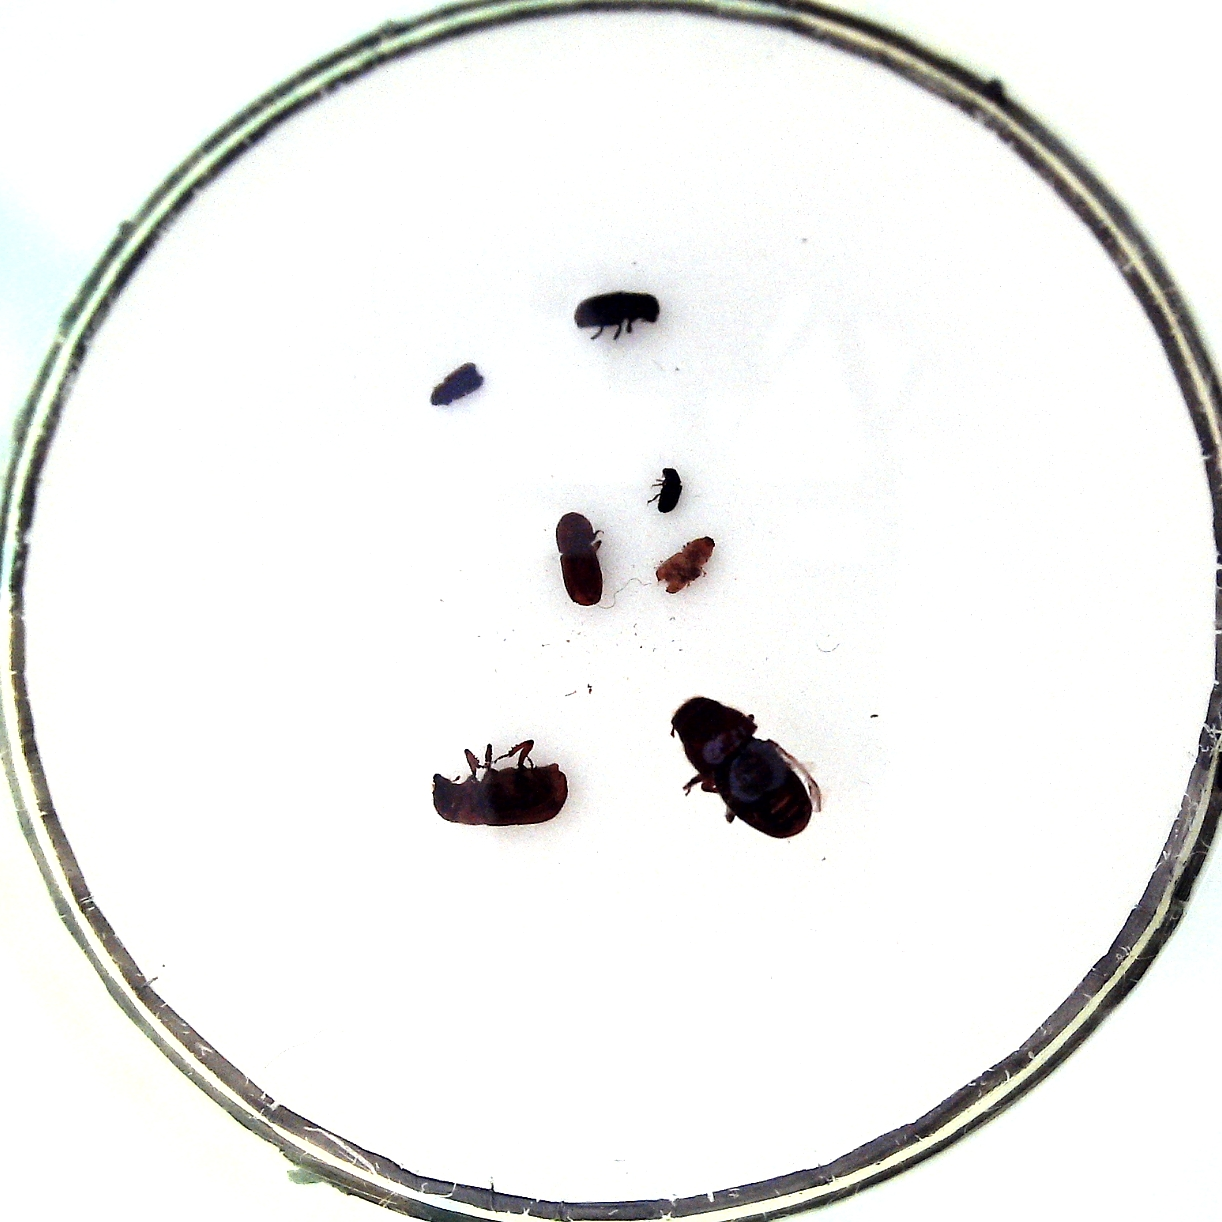Leconte: (671, 696, 814, 838), (432, 763, 568, 826)
acuminatus: (657, 468, 683, 513)
armandi: (574, 291, 660, 328)
coleoptera: (655, 537, 715, 594), (430, 361, 485, 406)
linnaeus: (556, 513, 603, 605)
